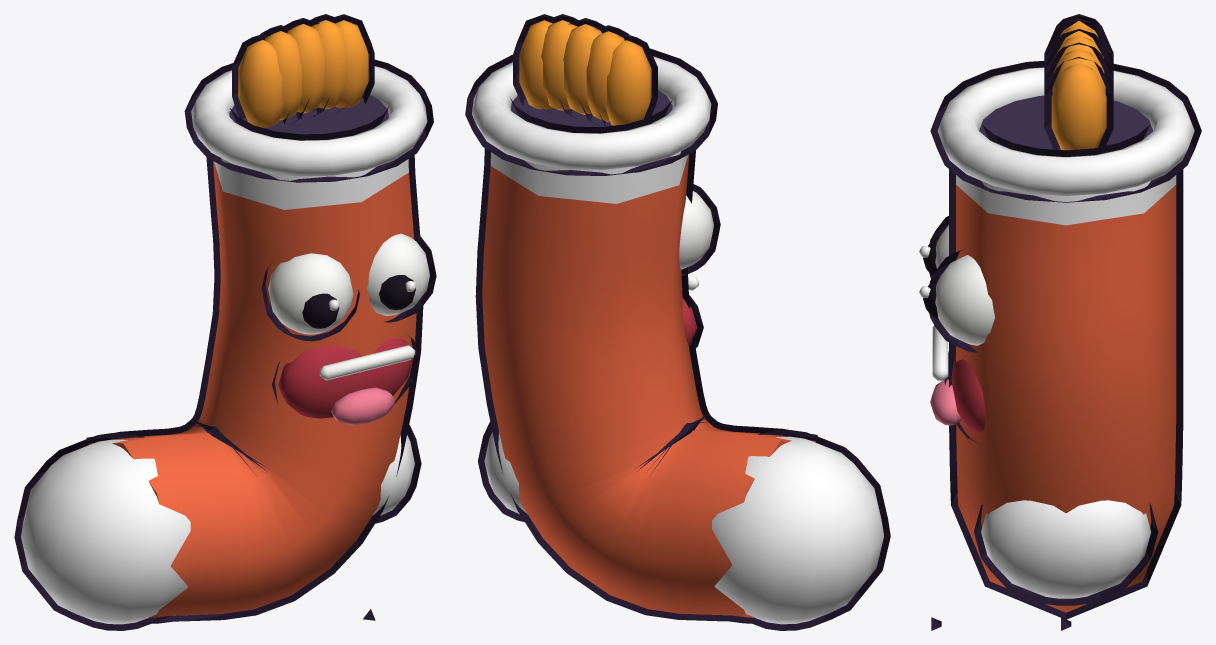
The model's file is PuppetSupreme_L.glb.
3 views of the same model, side by side, from view 1: azimuth 30°, elevation 25°; view 2: azimuth 150°, elevation 25°; view 3: azimuth 270°, elevation 25° (orthographic). The views are drawn at different scales.
Parts seen in each view (by area): view 1: PuppetSupreme_L, PuppetSupreme_L_Outline; view 2: PuppetSupreme_L, PuppetSupreme_L_Outline; view 3: PuppetSupreme_L, PuppetSupreme_L_Outline.
Boxes of the visible parts, left/top/right/bottom form: PuppetSupreme_L: left=21, top=20, right=429, bottom=624; PuppetSupreme_L_Outline: left=14, top=14, right=436, bottom=630; PuppetSupreme_L: left=472, top=20, right=883, bottom=624; PuppetSupreme_L_Outline: left=465, top=14, right=890, bottom=630; PuppetSupreme_L: left=919, top=21, right=1194, bottom=612; PuppetSupreme_L_Outline: left=926, top=14, right=1201, bottom=619.
Size of the model in its own units: 3.77 by 5.28 by 2.18.
1 material, 1 textured.
